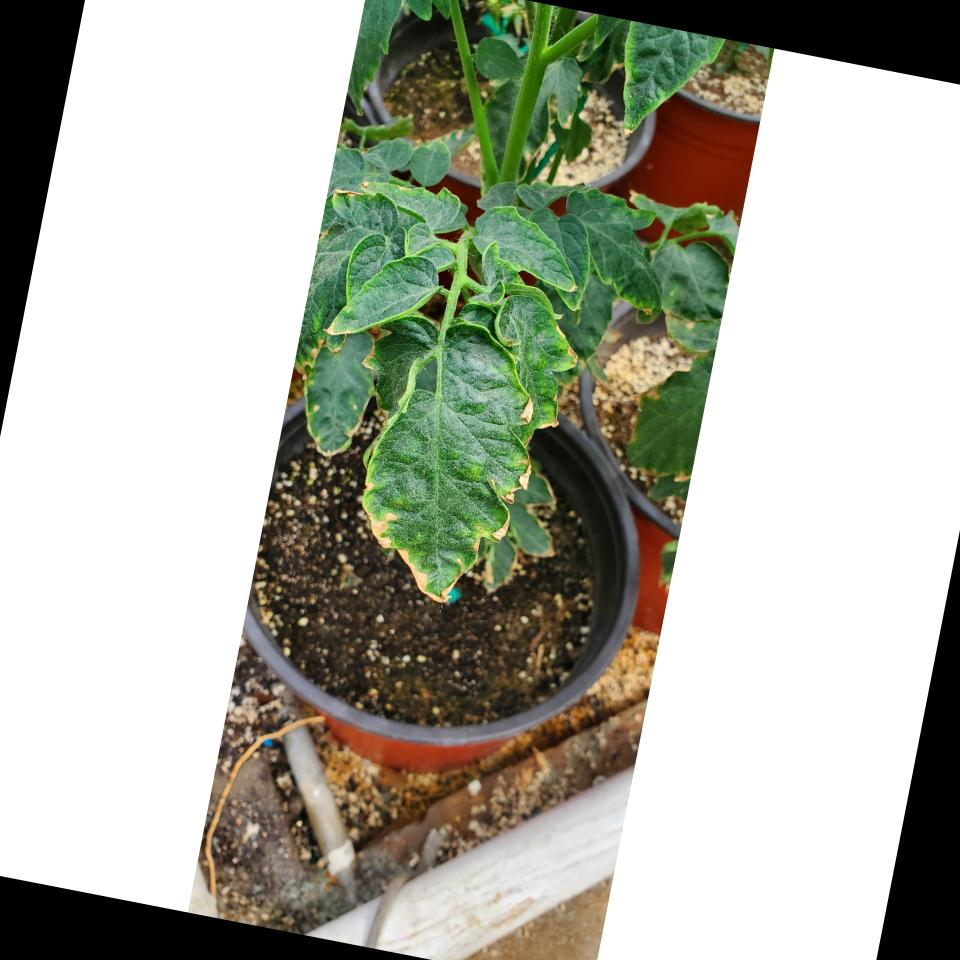tomato_bacterial_blight: (329, 296, 558, 613)
